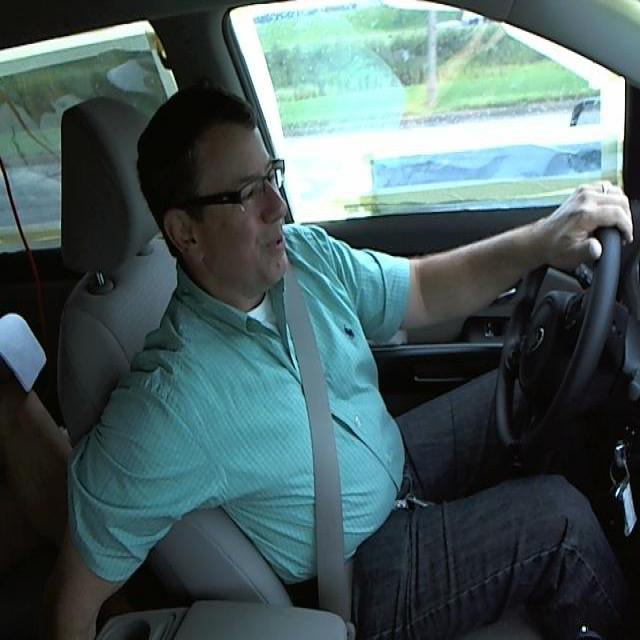seatbelt: (280, 283, 359, 606)
